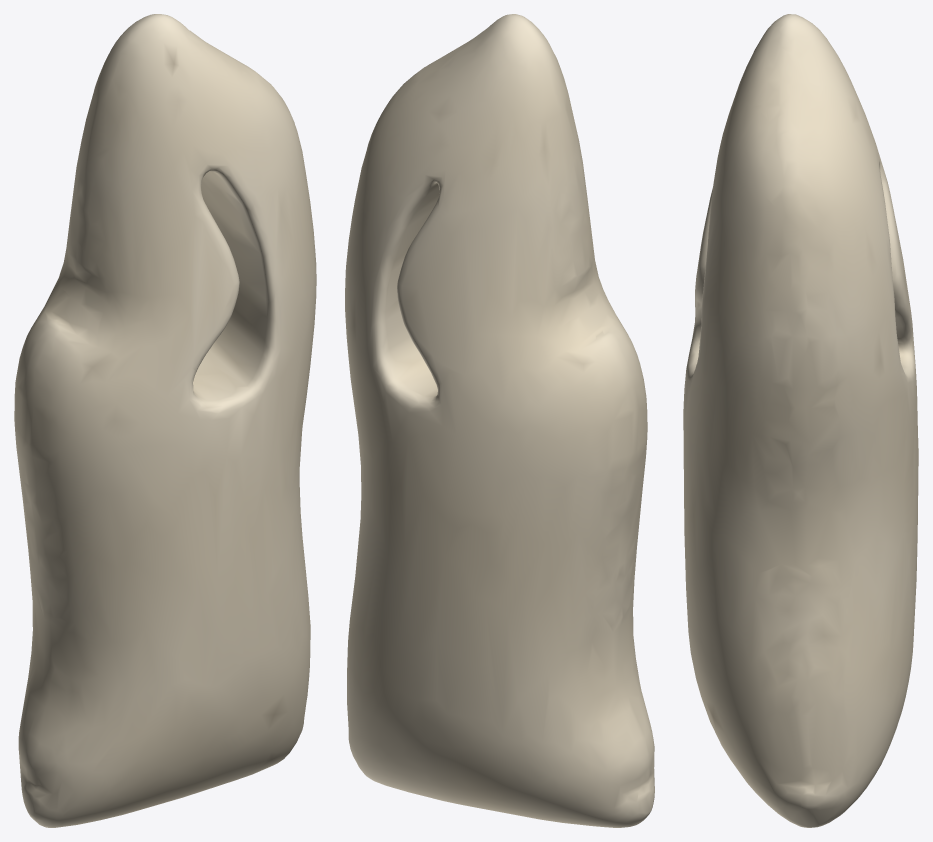
Rendered from king-white.glb.
3 renders of one model, left to right at view 1: azimuth 30°, elevation 25°; view 2: azimuth 150°, elevation 25°; view 3: azimuth 270°, elevation 25°, orthographic. The views are drawn at different scales.
Visible parts, largest first — view 1: Lumen kral bila; view 2: Lumen kral bila; view 3: Lumen kral bila.
Part boxes in pixels (bbox=[...]): Lumen kral bila: bbox=[14, 14, 316, 827]; Lumen kral bila: bbox=[345, 14, 654, 827]; Lumen kral bila: bbox=[683, 14, 918, 827].
Bounding box in the file's own units: 0.6229 × 1.65 × 0.4681.
